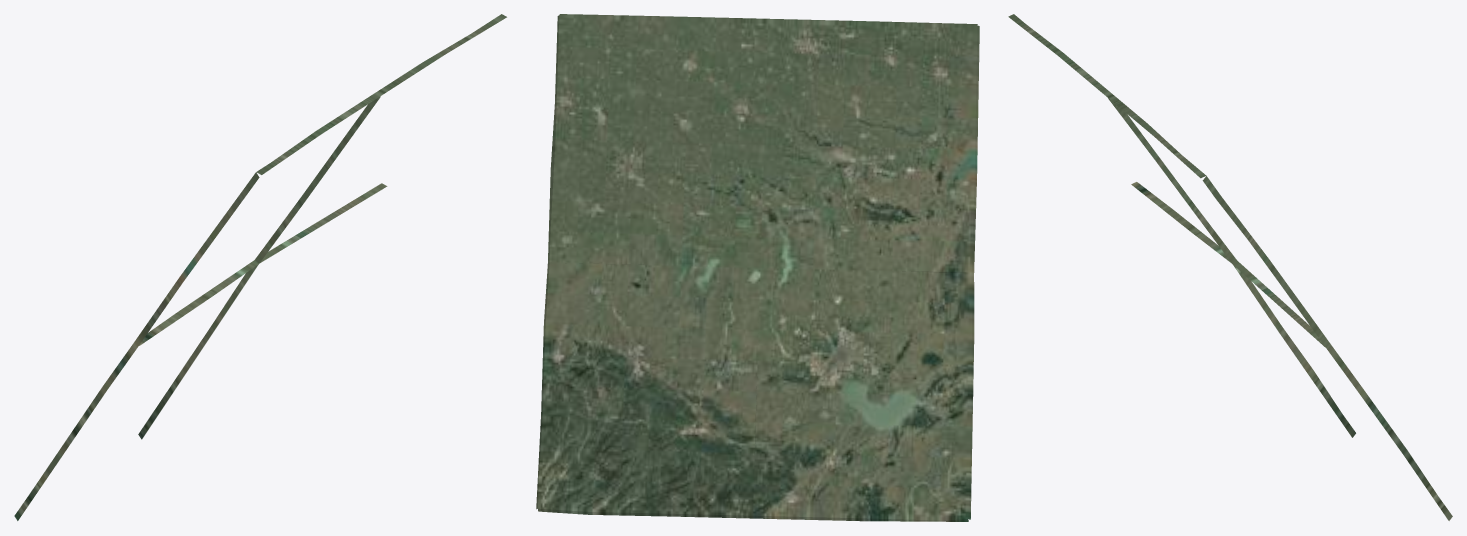
3 views of the same model, side by side, from view 1: azimuth 30°, elevation 25°; view 2: azimuth 150°, elevation 25°; view 3: azimuth 270°, elevation 25° (orthographic). The views are drawn at different scales.
Size of the model in its own units: 315593 by 268627 by 272425.
1 material, 1 textured.
